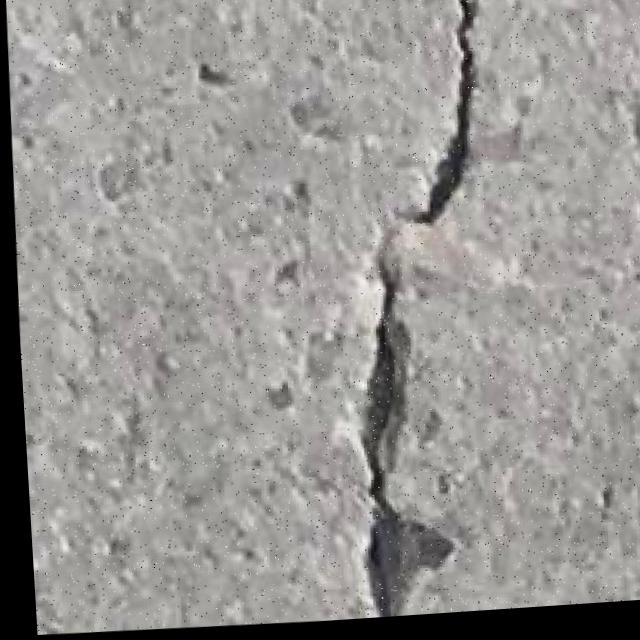Crack: (308, 0, 512, 624)
